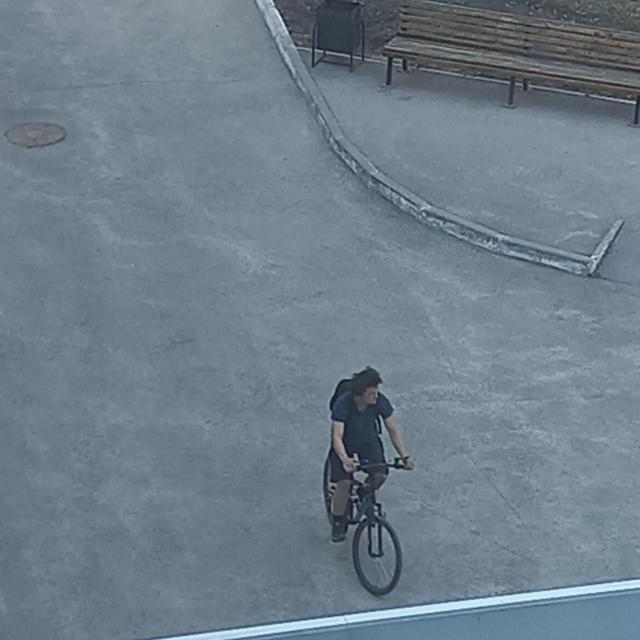person: (320, 357, 418, 538)
